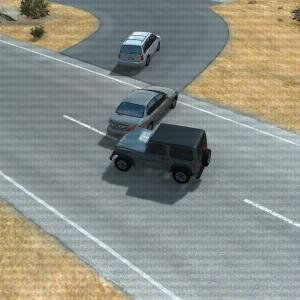superficial: (103, 83, 214, 185)
